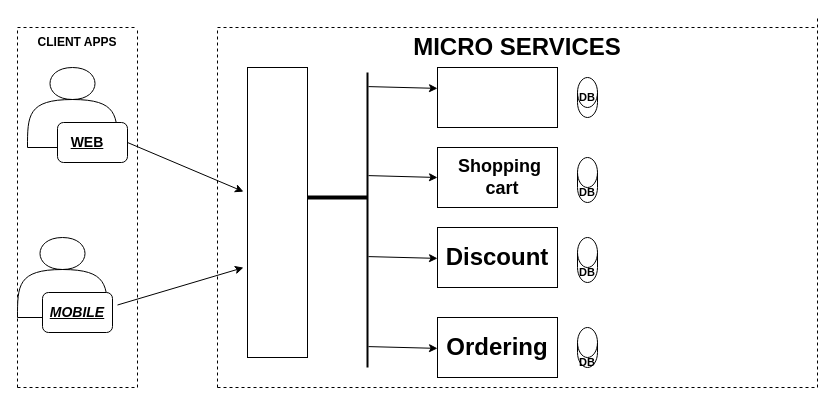
Image size: 836x406. Some labels were removed from this diagram. The box of each missing label's shape, as (x1, y1, x2, y2) in pixels:
API Gateway: (246, 66, 308, 358)
Catalog: (436, 66, 558, 128)
